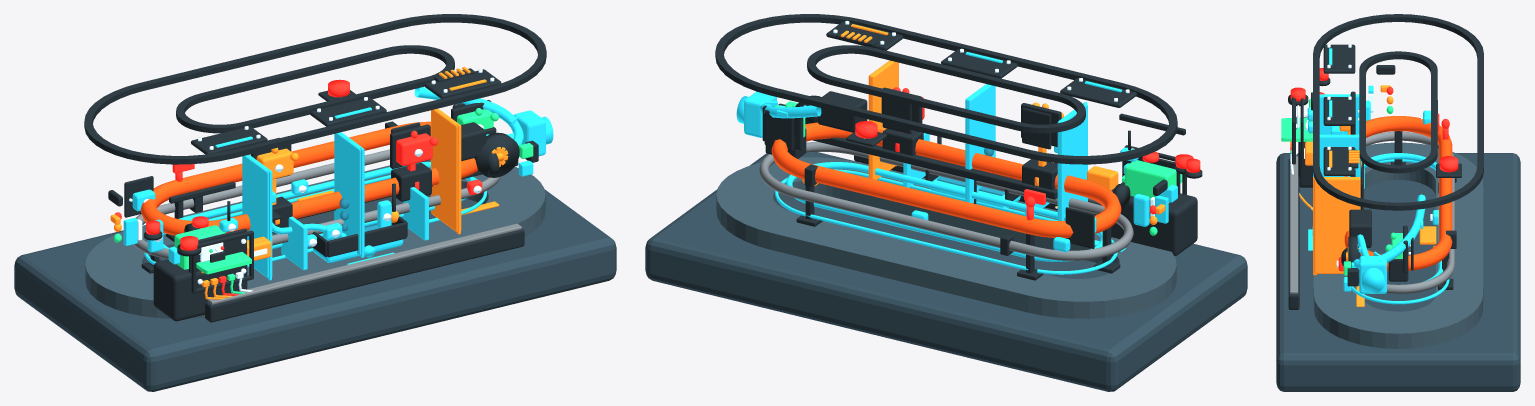
File: utility-tunnel-annular-v06.glb
The picture shows the model from 3 angles, left to right: view 1: azimuth 30°, elevation 25°; view 2: azimuth 150°, elevation 25°; view 3: azimuth 270°, elevation 25°; orthographic projection. The views are drawn at different scales.
Parts seen in each view (by area): view 1: MESH_BASE_01, MESH_RING_FLOOR, MESH_RING_OUTER_RAIL, MESH_PIPE_G01, MESH_CABLE_DUCT_01, MESH_RING_INNER_RAIL, MESH_CTRL_DRY_BAY, MESH_PIPE_UTILITY_01, GEO_ZONE_C_RIB, GEO_ZONE_B_RIB, GEO_CABLE_DUCT_COVER, GEO_ZONE_A_RIB (+20 smaller); view 2: MESH_BASE_01, MESH_RING_FLOOR, MESH_PIPE_G01, MESH_RING_OUTER_RAIL, MESH_PIPE_UTILITY_01, MESH_RING_INNER_RAIL, MESH_PIPE_UTILITY_02, MESH_CTRL_DRY_BAY, MESH_GAS_SENSOR_RAIL_C01, MESH_LED_RING, GEO_ZONE_A_RIB, GEO_ZONE_B_RIB (+16 smaller); view 3: MESH_BASE_01, MESH_RING_FLOOR, MESH_RING_OUTER_RAIL, GEO_ZONE_C_RIB, MESH_PIPE_G01, MESH_RING_INNER_RAIL, MESH_PIPE_UTILITY_01, GEO_CABLE_DUCT_COVER, MESH_ROOF_HATCH_A, MESH_ROOF_HATCH_B, GEO_ZONE_B_RIB, MESH_ROOF_HATCH_C (+18 smaller).
Part boxes in pixels (bbox=[...]): MESH_BASE_01: bbox=[14, 189, 616, 391]; MESH_RING_FLOOR: bbox=[85, 159, 545, 318]; MESH_RING_OUTER_RAIL: bbox=[84, 14, 546, 164]; MESH_PIPE_G01: bbox=[140, 121, 477, 235]; MESH_CABLE_DUCT_01: bbox=[205, 229, 524, 322]; MESH_RING_INNER_RAIL: bbox=[176, 45, 454, 133]; MESH_CTRL_DRY_BAY: bbox=[153, 259, 247, 321]; MESH_PIPE_UTILITY_01: bbox=[133, 149, 500, 258]; GEO_ZONE_C_RIB: bbox=[431, 108, 461, 232]; GEO_ZONE_B_RIB: bbox=[334, 132, 364, 255]; GEO_CABLE_DUCT_COVER: bbox=[207, 223, 521, 304]; GEO_ZONE_A_RIB: bbox=[242, 154, 272, 278]; MESH_BASE_01: bbox=[645, 152, 1247, 391]; MESH_RING_FLOOR: bbox=[716, 157, 1176, 318]; MESH_PIPE_G01: bbox=[771, 122, 1121, 237]; MESH_RING_OUTER_RAIL: bbox=[715, 14, 1177, 164]; MESH_PIPE_UTILITY_01: bbox=[759, 141, 1133, 260]; MESH_RING_INNER_RAIL: bbox=[807, 45, 1085, 133]; MESH_PIPE_UTILITY_02: bbox=[786, 162, 1102, 261]; MESH_CTRL_DRY_BAY: bbox=[1111, 182, 1197, 255]; MESH_GAS_SENSOR_RAIL_C01: bbox=[813, 137, 1057, 199]; MESH_LED_RING: bbox=[775, 169, 1117, 274]; GEO_ZONE_A_RIB: bbox=[1057, 103, 1087, 220]; GEO_ZONE_B_RIB: bbox=[965, 84, 995, 203]; MESH_BASE_01: bbox=[1276, 153, 1520, 391]; MESH_RING_FLOOR: bbox=[1313, 142, 1483, 348]; MESH_RING_OUTER_RAIL: bbox=[1313, 14, 1483, 210]; GEO_ZONE_C_RIB: bbox=[1314, 177, 1360, 273]; MESH_PIPE_G01: bbox=[1344, 116, 1452, 270]; MESH_RING_INNER_RAIL: bbox=[1359, 51, 1437, 173]; MESH_PIPE_UTILITY_01: bbox=[1346, 131, 1454, 293]; GEO_CABLE_DUCT_COVER: bbox=[1289, 156, 1298, 293]; MESH_ROOF_HATCH_A: bbox=[1323, 44, 1355, 73]; MESH_ROOF_HATCH_B: bbox=[1323, 97, 1355, 125]; GEO_ZONE_B_RIB: bbox=[1319, 134, 1360, 177]; MESH_ROOF_HATCH_C: bbox=[1323, 147, 1355, 175].
Size of what is drawn, in the model's own units: 1 by 0.42 by 0.5.
